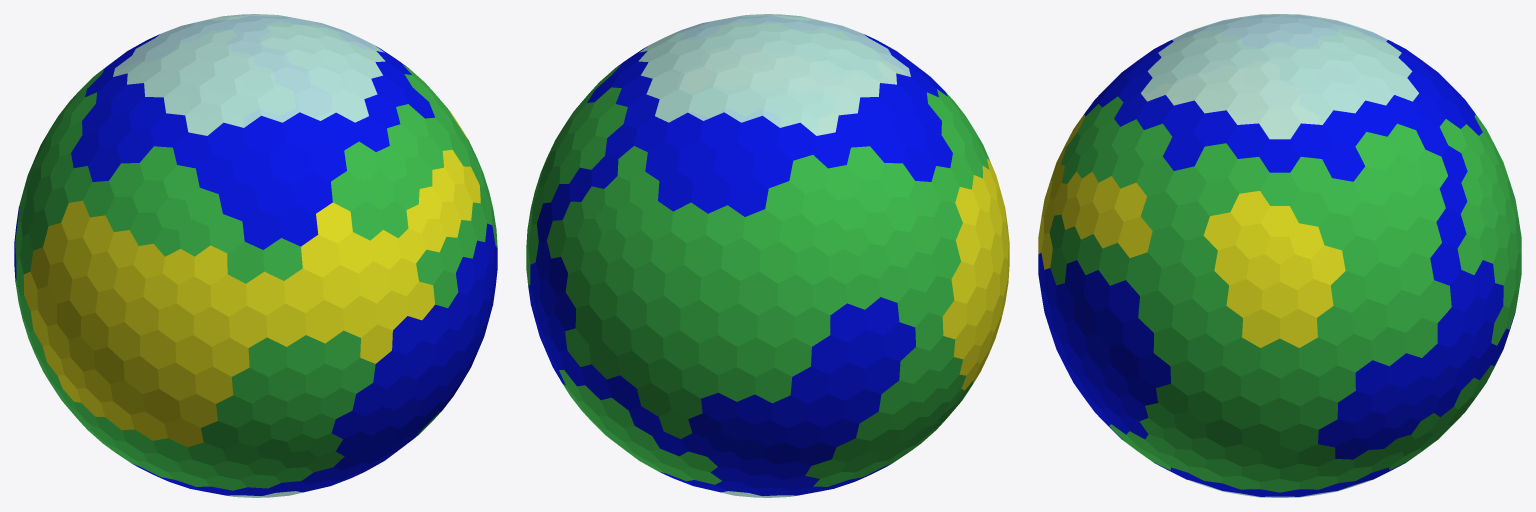
File: dgem2.fbx
3 renders of one model, left to right at view 1: azimuth 30°, elevation 25°; view 2: azimuth 150°, elevation 25°; view 3: azimuth 270°, elevation 25°, orthographic.
Parts seen in each view (by area): view 1: Икосфера.008; view 2: Икосфера.008; view 3: Икосфера.008.
Boxes of the visible parts, x1=… form: Икосфера.008: x1=14, y1=14, x2=497, y2=497; Икосфера.008: x1=526, y1=14, x2=1009, y2=497; Икосфера.008: x1=1038, y1=14, x2=1521, y2=497.
Bounding box in the file's own units: 198 × 199 × 198.
